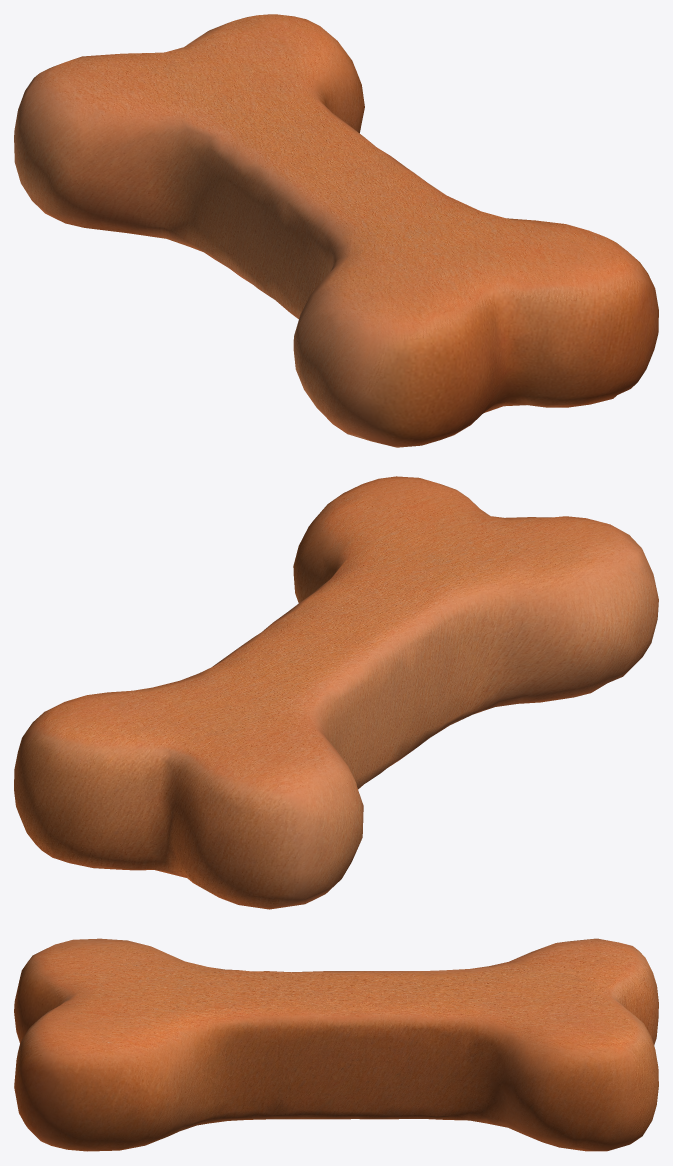
Rendered from P_ToyBone_h22.fbx.
3 renders of one model, top to bottom at view 1: azimuth 30°, elevation 25°; view 2: azimuth 150°, elevation 25°; view 3: azimuth 270°, elevation 25°, orthographic. The views are drawn at different scales.
Visible parts, largest first — view 1: texture_mapping; view 2: texture_mapping; view 3: texture_mapping.
Boxes of the visible parts, x1,y1,x2,y2 form: texture_mapping: (14, 14, 658, 447); texture_mapping: (14, 476, 658, 909); texture_mapping: (14, 938, 658, 1151).
Size of the model in its own units: 49.32 by 19.6 by 100.
1 material, 1 textured.
